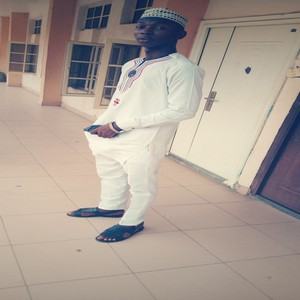Fulokoja_male_student: (102, 15, 187, 236)
